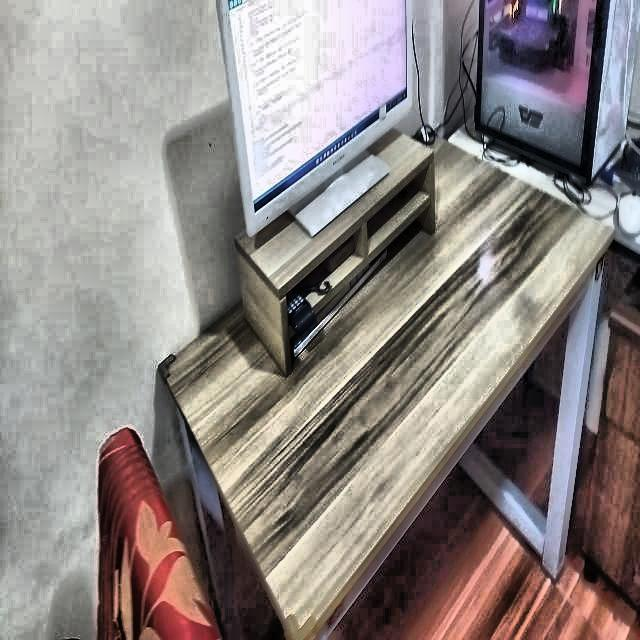mesa: (162, 135, 596, 640)
